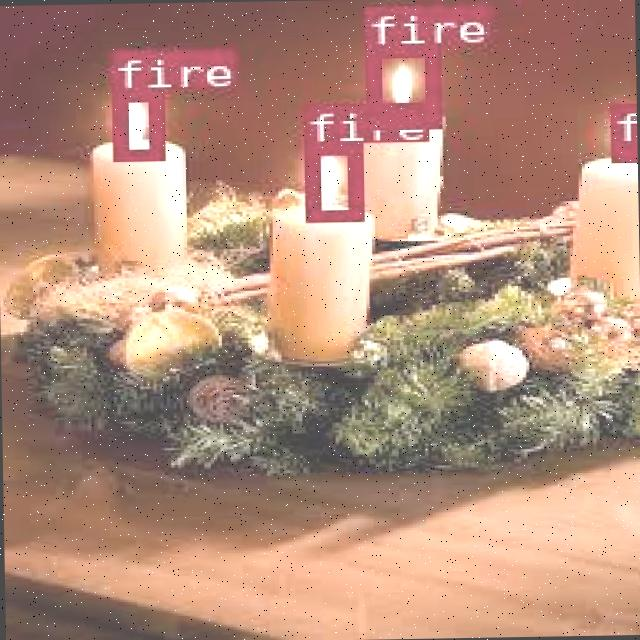fire: (362, 44, 438, 127), (302, 142, 360, 218), (109, 87, 160, 158), (608, 103, 630, 158)
